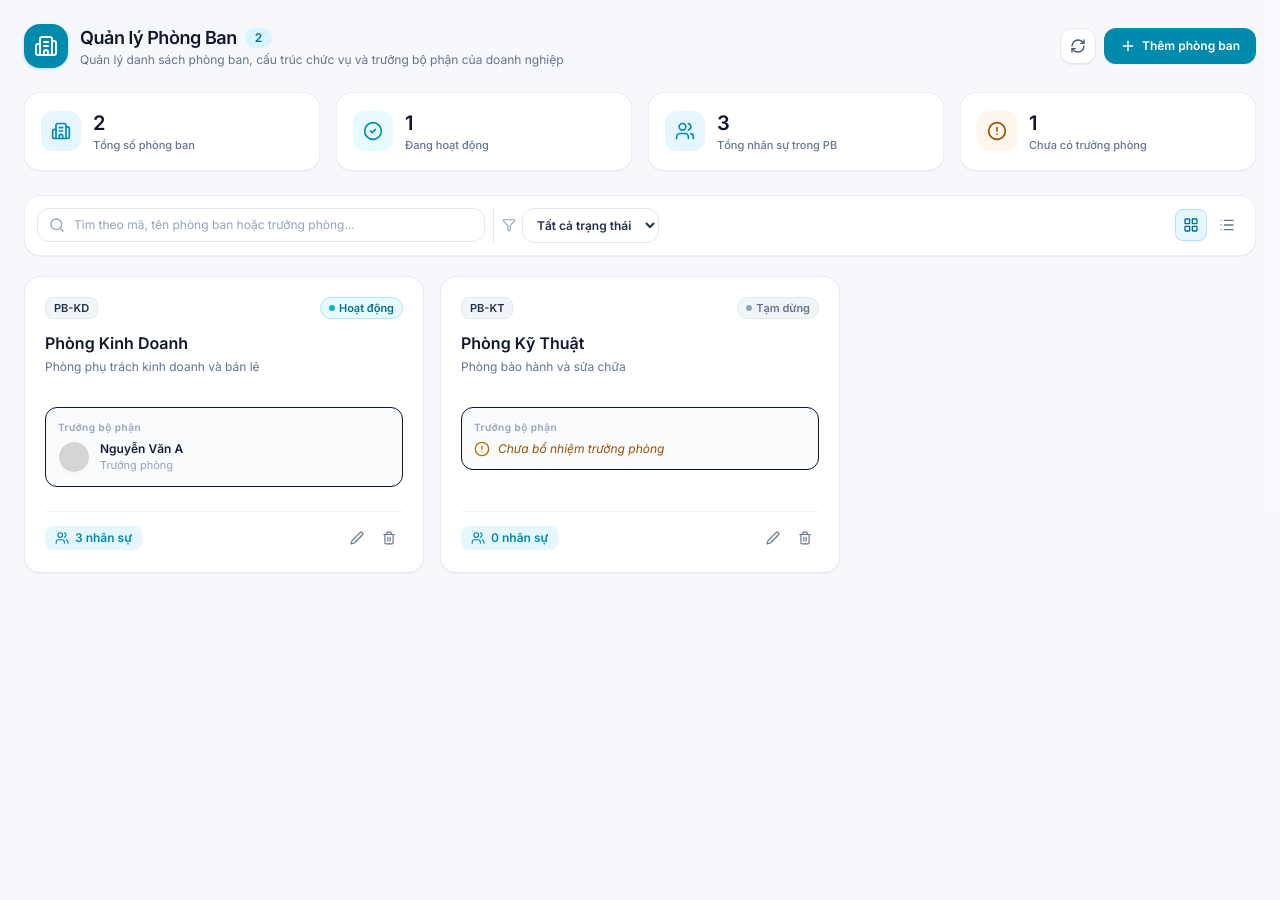
it: DepartmentManagementTab › mở modal thêm phòng ban khi nhấn nút Thêm phòng ban
Expected: the heading "Phòng Kinh Doanh" is shown, left=45, top=333, right=188, bottom=353
Click the button "Thêm phòng ban" at [1180, 46], box left=1104, top=28, right=1256, bottom=64
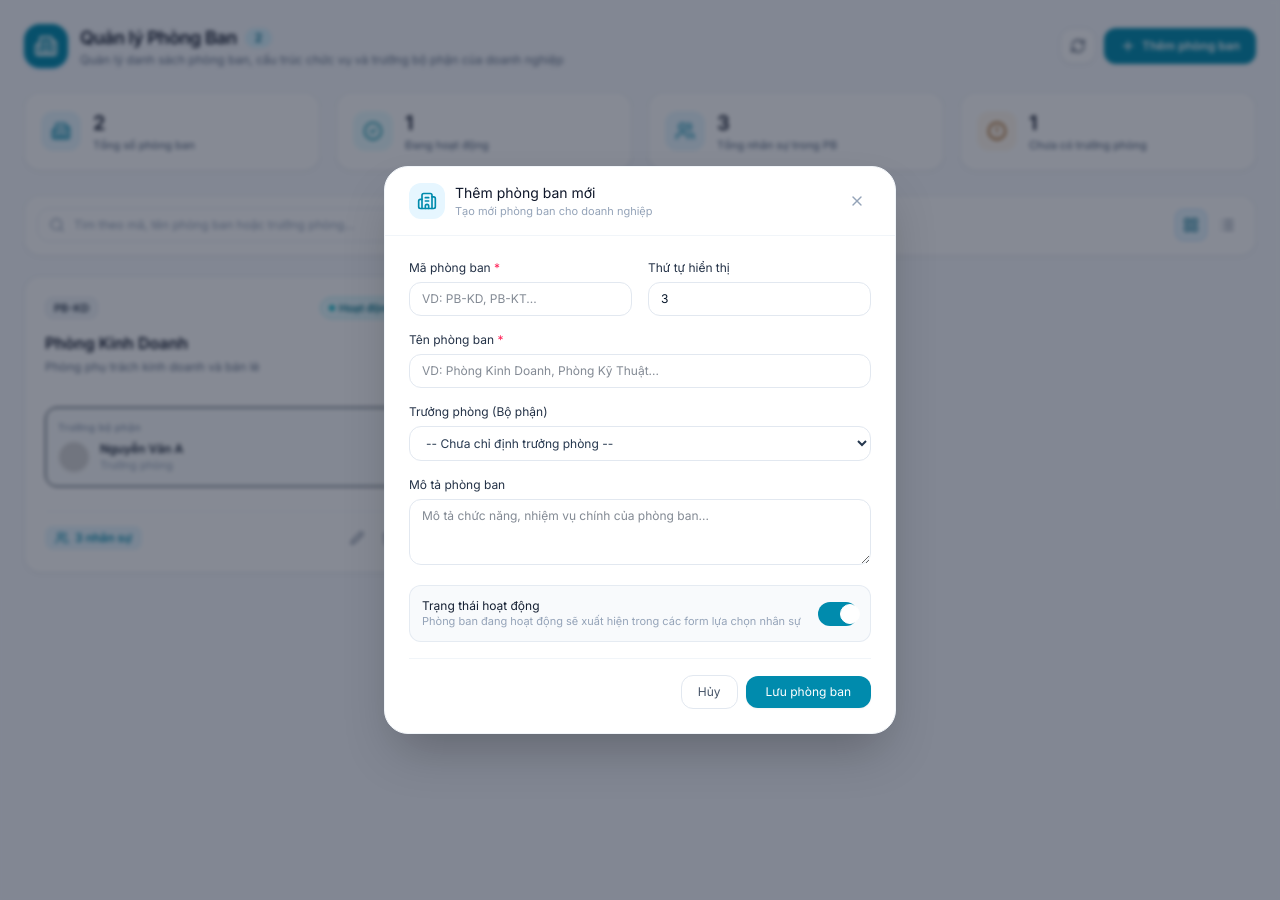
Result: the heading "Thêm phòng ban mới" is shown at left=455, top=184, right=596, bottom=201
Result: the field with placeholder "VD: PB-KD, PB-KT..." is shown at left=409, top=282, right=632, bottom=316
Result: the field with placeholder "VD: Phòng Kinh Doanh, Phòng Kỹ Thuật..." is shown at left=409, top=354, right=871, bottom=388
